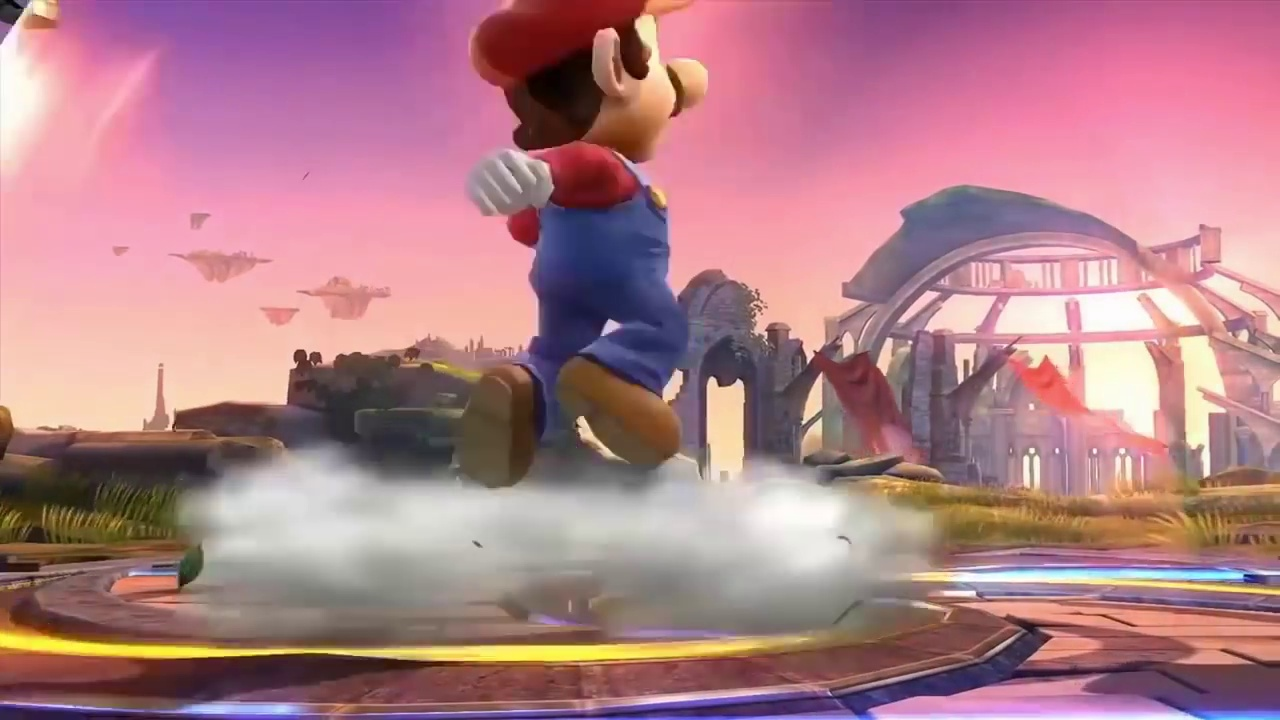Mario: (455, 1, 712, 499)
